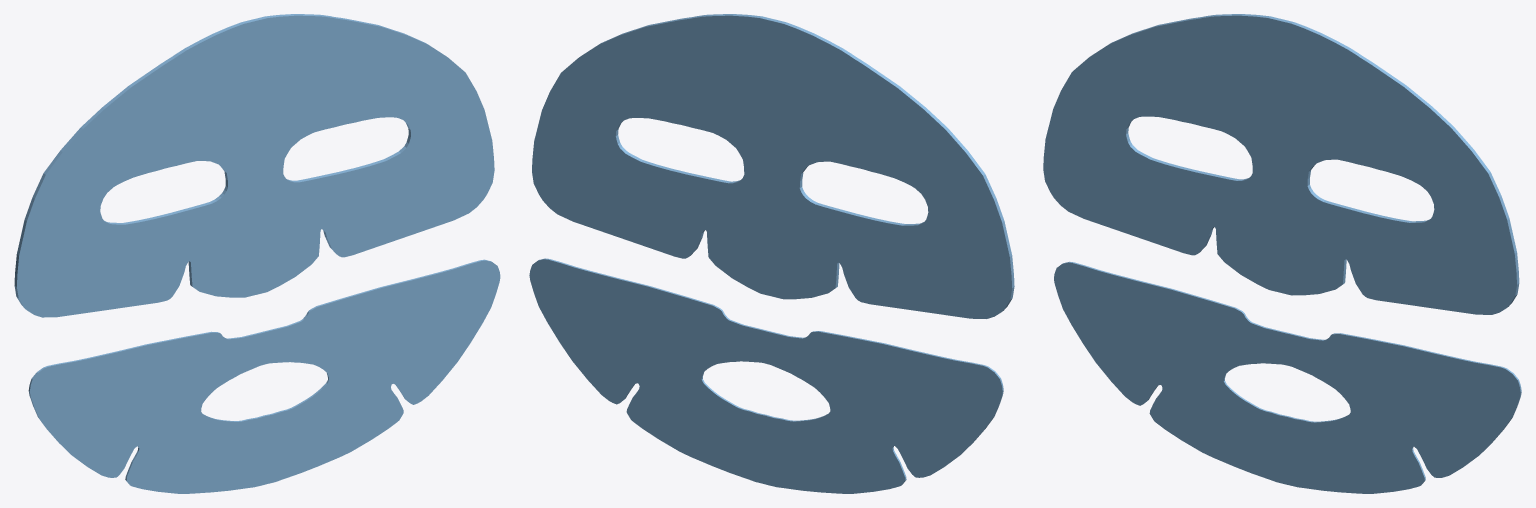
The model's file is cryoModel.glb.
3 renders of one model, left to right at view 1: azimuth 30°, elevation 25°; view 2: azimuth 150°, elevation 25°; view 3: azimuth 330°, elevation 25°, orthographic.
Parts seen in each view (by area): view 1: 03_UP; view 2: 03_UP; view 3: 03_UP.
Boxes of the visible parts, x1,y1,x2,y2 form: 03_UP: (14,14,500,493); 03_UP: (529,14,1014,493); 03_UP: (1043,14,1521,493).
Bounding box in the file's own units: 4.88 × 4.49 × 0.0611.
